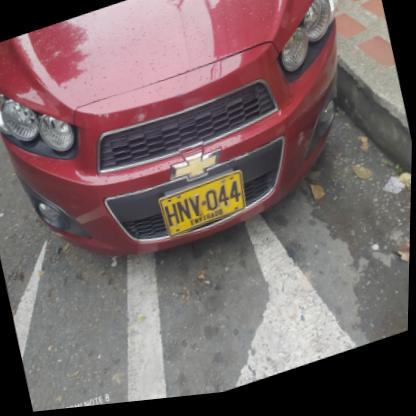placa: (153, 169, 259, 251)
